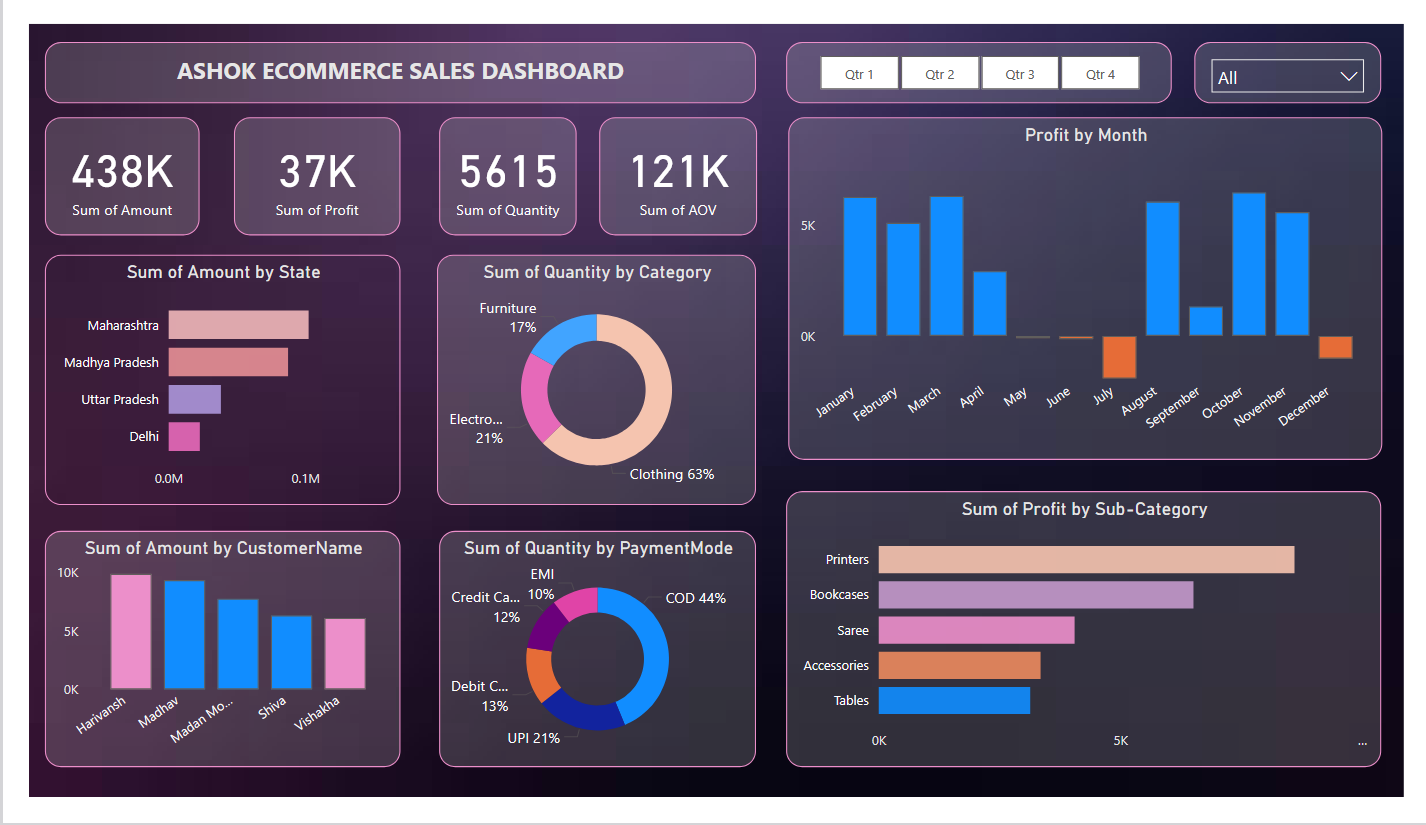

What the dashboard file says about the page in this screenshot:
{"tool":"powerbi","page":{"name":"Page 1","canvas":[1280,720],"ordinal":0},"visuals":[{"type":"columnChart","title":"Profit by Month","fields":{"Category":["Orders.Order Date.Variation.Date Hierarchy.Month"],"Y":["Details.Profit"]},"box":[706.8,86.9,553.7,319.4],"z":0},{"type":"barChart","fields":{"Category":["Details.Sub-Category"],"Y":["Details.Profit"]},"box":[704.9,434.6,553.7,257],"z":1000},{"type":"donutChart","fields":{"Category":["Details.Category"],"Y":["Details.Quantity"]},"box":[379.8,215.4,296.7,232.4],"z":2000},{"type":"donutChart","fields":{"Category":["Details.PaymentMode"],"Y":["Details.Quantity"]},"box":[381.7,472.4,294.8,219.2],"z":3000},{"type":"card","fields":{"Values":["Details.Amount"]},"box":[15.1,86.9,143.6,109.6],"z":4000},{"type":"card","fields":{"Values":["Details.Quantity"]},"box":[381.7,86.9,128.5,109.6],"z":5000},{"type":"card","fields":{"Values":["Details.Profit"]},"box":[190.9,86.9,155,109.6],"z":6000},{"type":"card","fields":{"Values":["Details.AOV"]},"box":[531,86.9,147.4,109.6],"z":7000},{"type":"barChart","fields":{"Category":["Orders.State"],"Y":["Details.Amount"]},"box":[15.1,215.4,330.7,232.4],"z":8000},{"type":"columnChart","fields":{"Category":["Orders.CustomerName"],"Y":["Details.Amount"]},"box":[15.1,472.4,330.7,219.2],"z":9000},{"type":"textbox","box":[15.1,17,661.4,56.7],"z":10000},{"type":"slicer","fields":{"Values":["Orders.Order Date.Variation.Date Hierarchy.Quarter"]},"box":[704.9,17,359.1,56.7],"z":11000},{"type":"slicer","fields":{"Values":["Orders.State"]},"box":[1084.7,17,173.9,56.7],"z":12000}]}

Visuals, with their boxes on the page's 1280x720 design canvas (x1, y1, x2, y2). These are canvas units, not pixel positions in the 1426x825 screenshot, which may show the page scaled, cropped or inside an application window:
"Profit by Month" columnChart: BBox(707, 87, 1260, 406)
barChart - Details.Sub-Category x Details.Profit: BBox(705, 435, 1259, 692)
donutChart - Details.Category x Details.Quantity: BBox(380, 215, 676, 448)
donutChart - Details.PaymentMode x Details.Quantity: BBox(382, 472, 676, 692)
card - Details.Amount: BBox(15, 87, 159, 196)
card - Details.Quantity: BBox(382, 87, 510, 196)
card - Details.Profit: BBox(191, 87, 346, 196)
card - Details.AOV: BBox(531, 87, 678, 196)
barChart - Orders.State x Details.Amount: BBox(15, 215, 346, 448)
columnChart - Orders.CustomerName x Details.Amount: BBox(15, 472, 346, 692)
textbox: BBox(15, 17, 676, 74)
slicer - Orders.Order Date.Variation.Date Hierarchy.Quarter: BBox(705, 17, 1064, 74)
slicer - Orders.State: BBox(1085, 17, 1259, 74)
